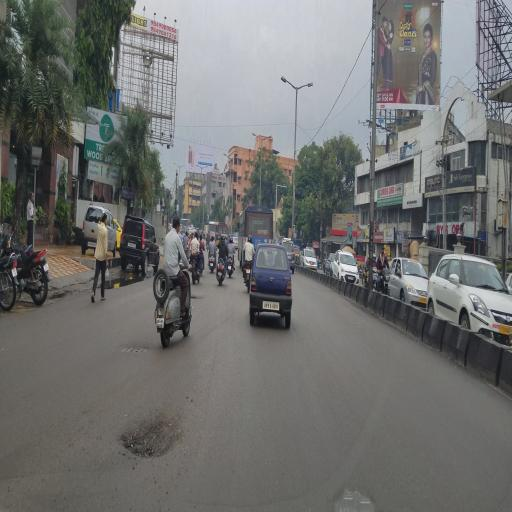street_light_0: (277, 67, 294, 99), (298, 72, 314, 104)
